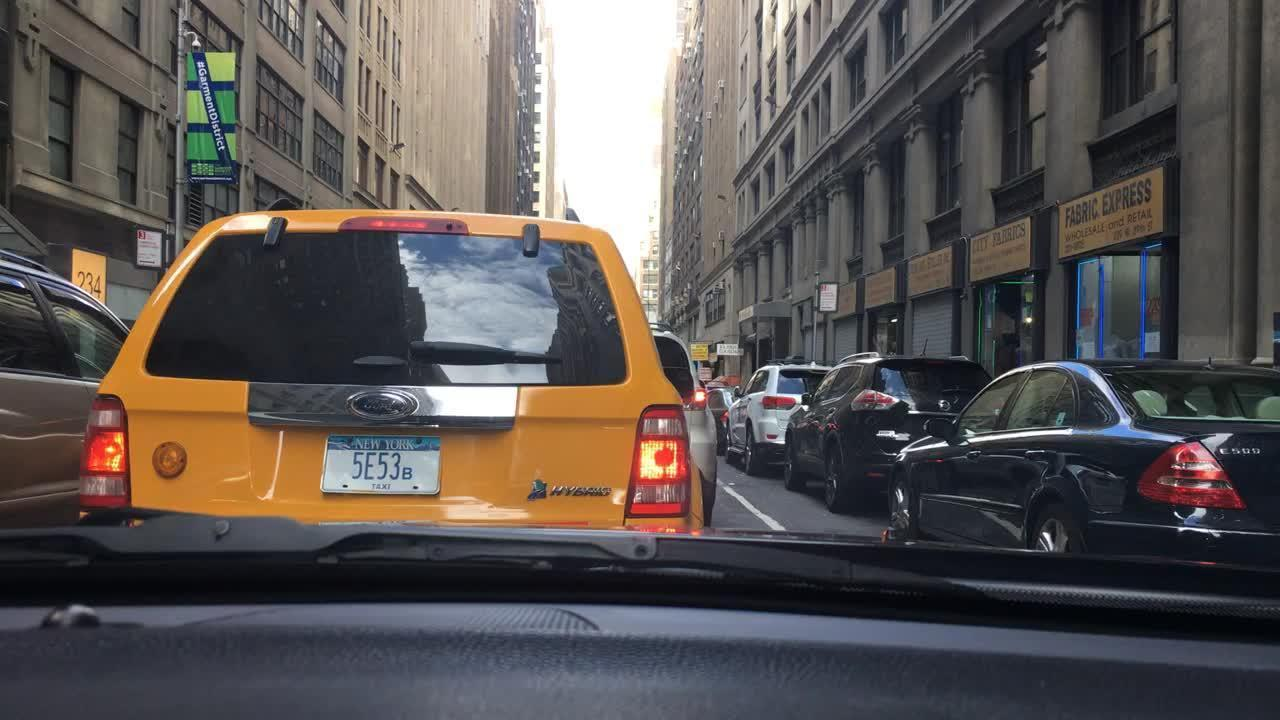Nissan: (937, 398, 955, 412)
ford: (348, 391, 416, 418)
